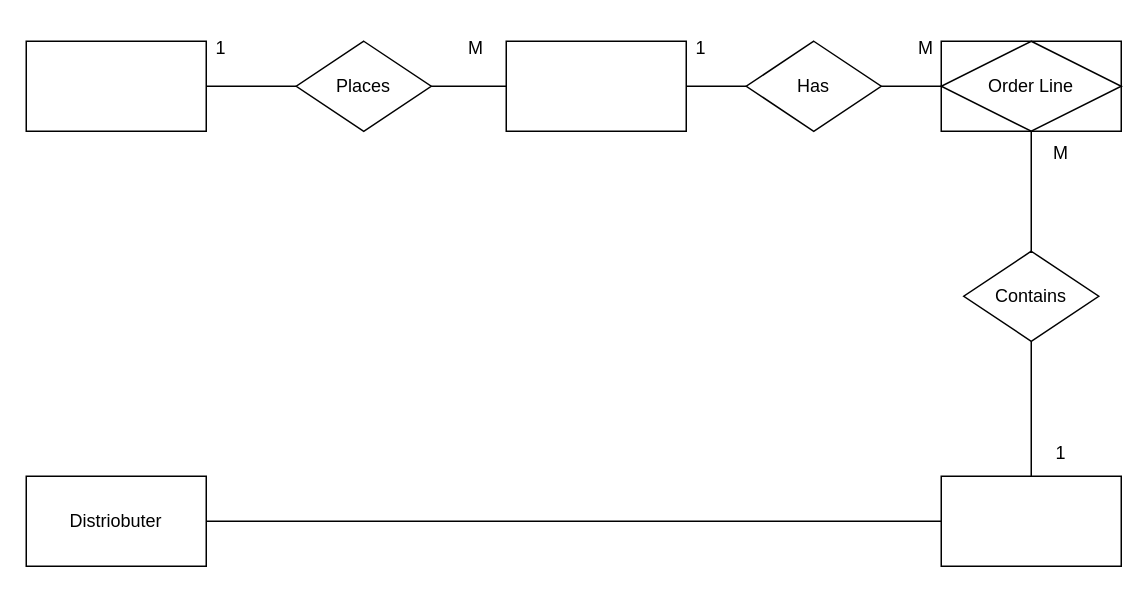
Some shapes in this 1148 by 593 pixel diagram are drawn without their labels. The shapes that lost their labels are listed below. From the top down, each one's centre as x and y in pixels, then its label:
At [115,85]: "Customer".
At [595,85]: "Order".
At [1030,520]: "Product".
